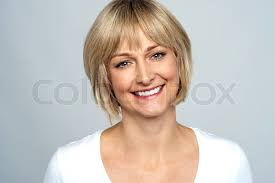white_female: (85, 24, 186, 119)
